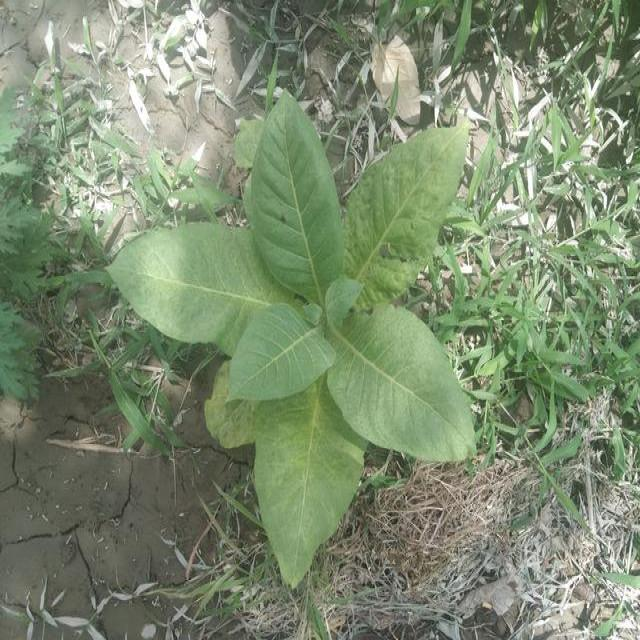crop: (126, 106, 474, 573)
